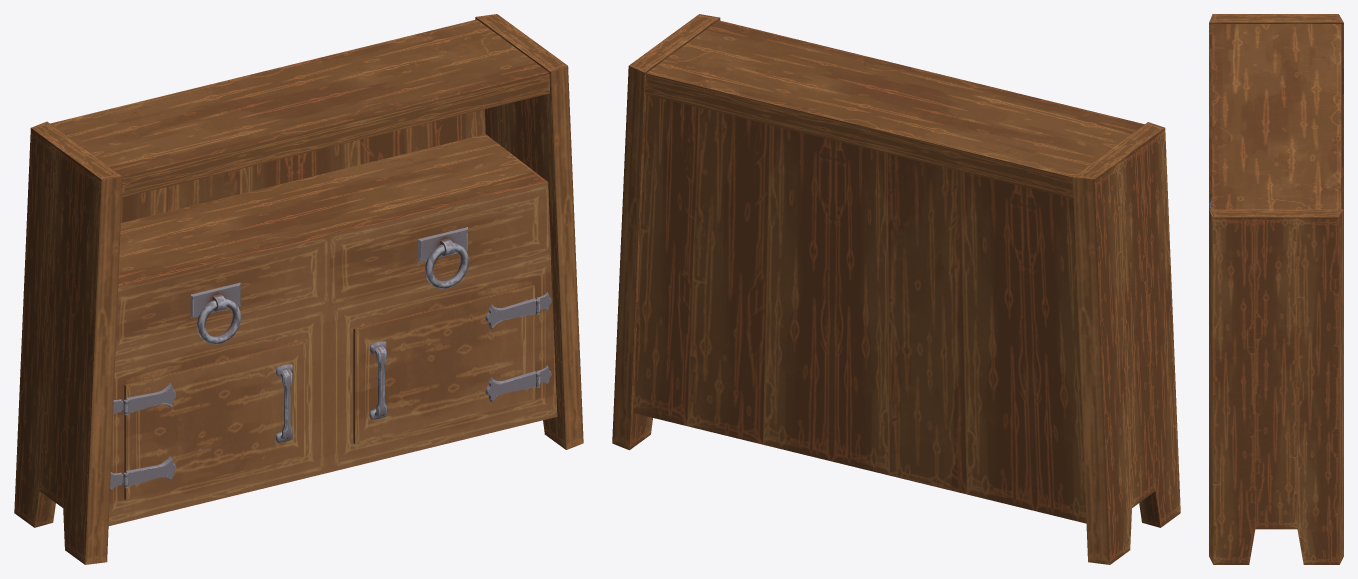
Rendered from Cabinet.fbx.
3 views of the same model, side by side, from view 1: azimuth 30°, elevation 25°; view 2: azimuth 150°, elevation 25°; view 3: azimuth 270°, elevation 25° (orthographic). The views are drawn at different scales.
Visible parts, largest first — view 1: Cabinet; view 2: Cabinet; view 3: Cabinet.
Part boxes in pixels (<box>): Cabinet: <box>14,14,583,564</box>; Cabinet: <box>612,14,1180,564</box>; Cabinet: <box>1209,14,1343,564</box>.
Bounding box in the file's own units: 136 × 99.74 × 35.71.
